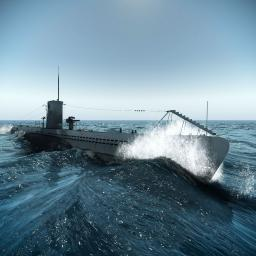submarine: (9, 65, 231, 195)
